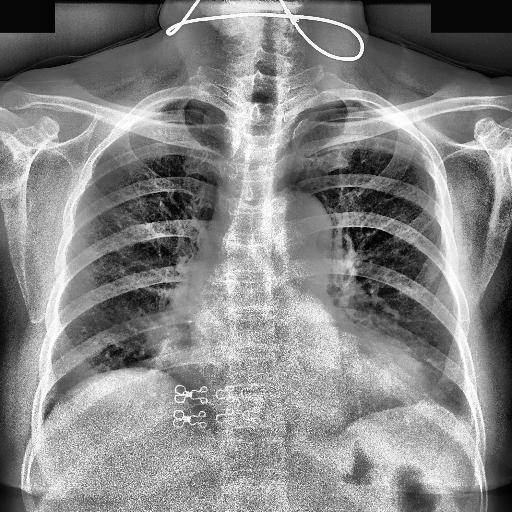0- Aortic enlargement: (268, 192, 336, 272), (264, 192, 336, 258), (262, 194, 334, 244)
3- Cardiomegaly: (188, 324, 430, 411), (186, 334, 427, 413), (184, 346, 434, 418)
4- Consolidation: (144, 324, 222, 406)
7- Lung Opacity: (144, 324, 222, 406), (150, 310, 194, 379)
